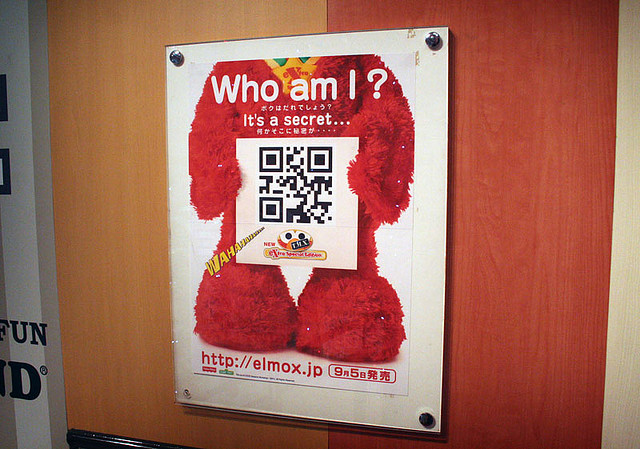QR-CODE: (259, 147, 331, 223)
